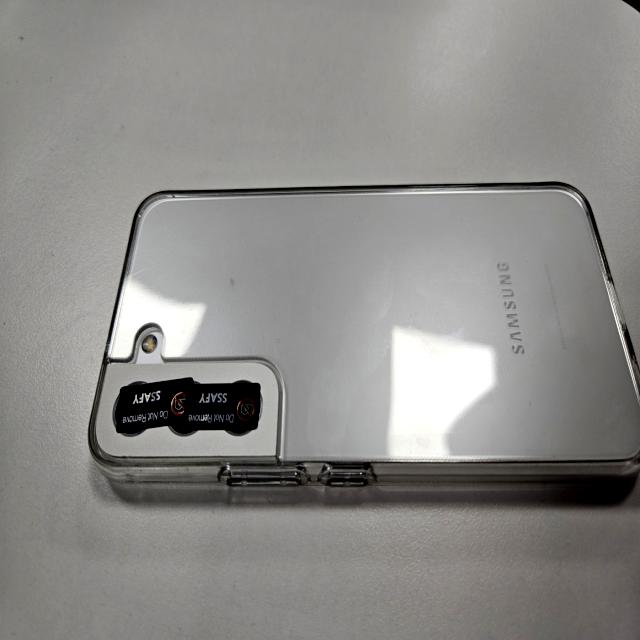phone: (86, 181, 640, 500)
sticker: (120, 377, 188, 429), (187, 382, 260, 429)
